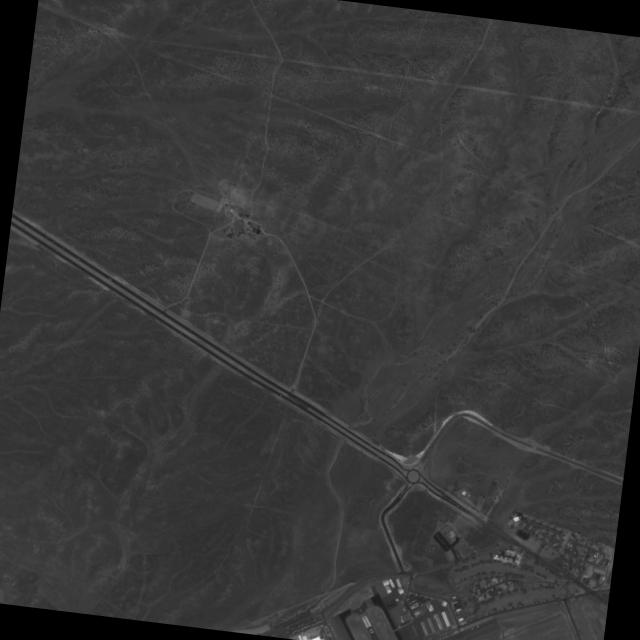plane: (469, 626, 473, 630), (474, 624, 478, 627)
